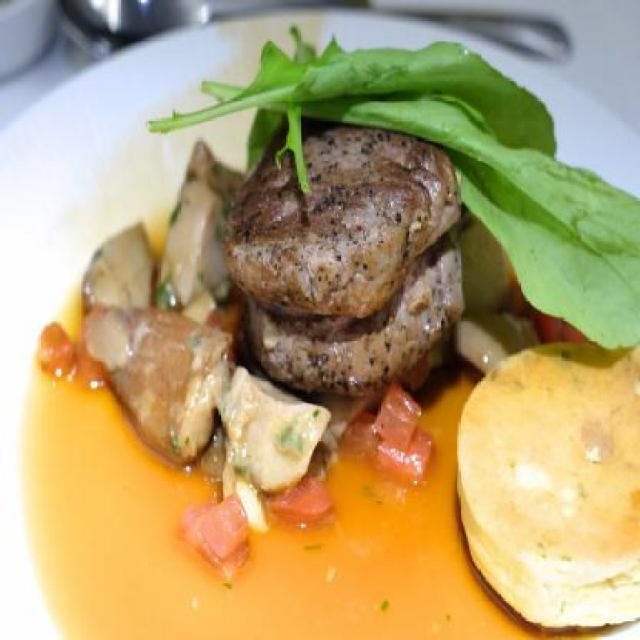Pancake: (215, 115, 462, 399), (456, 335, 640, 637)
